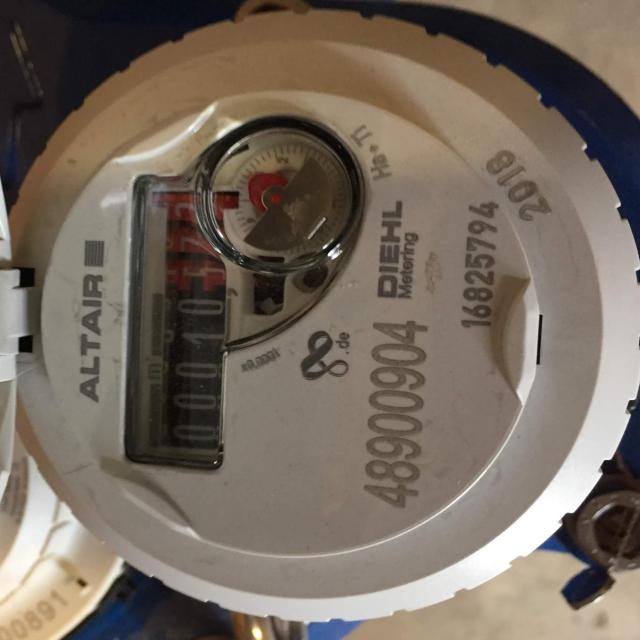gaz_meter: (6, 12, 640, 623)
indication: (125, 181, 231, 469)
